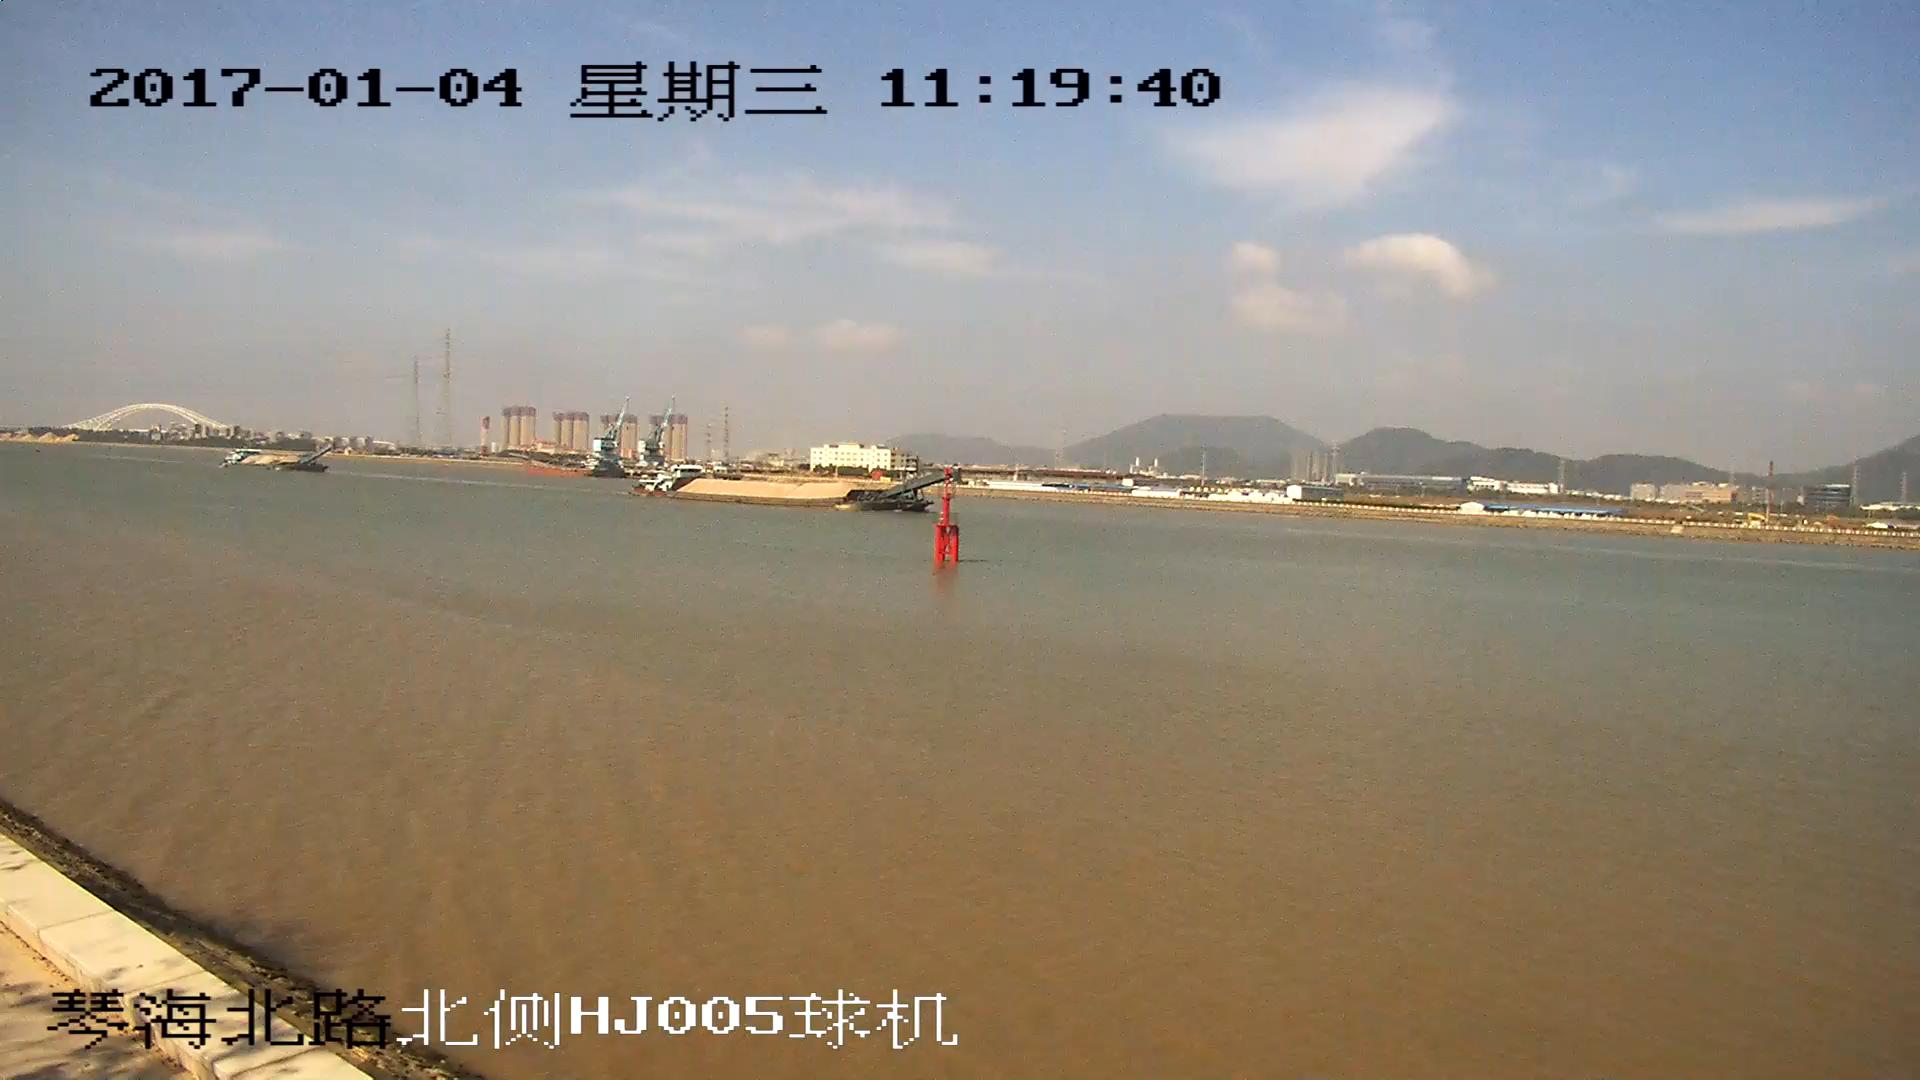ore carrier: (633, 467, 944, 510)
